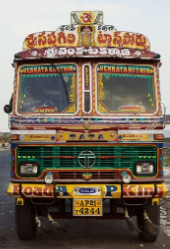truck: (2, 6, 166, 243)
